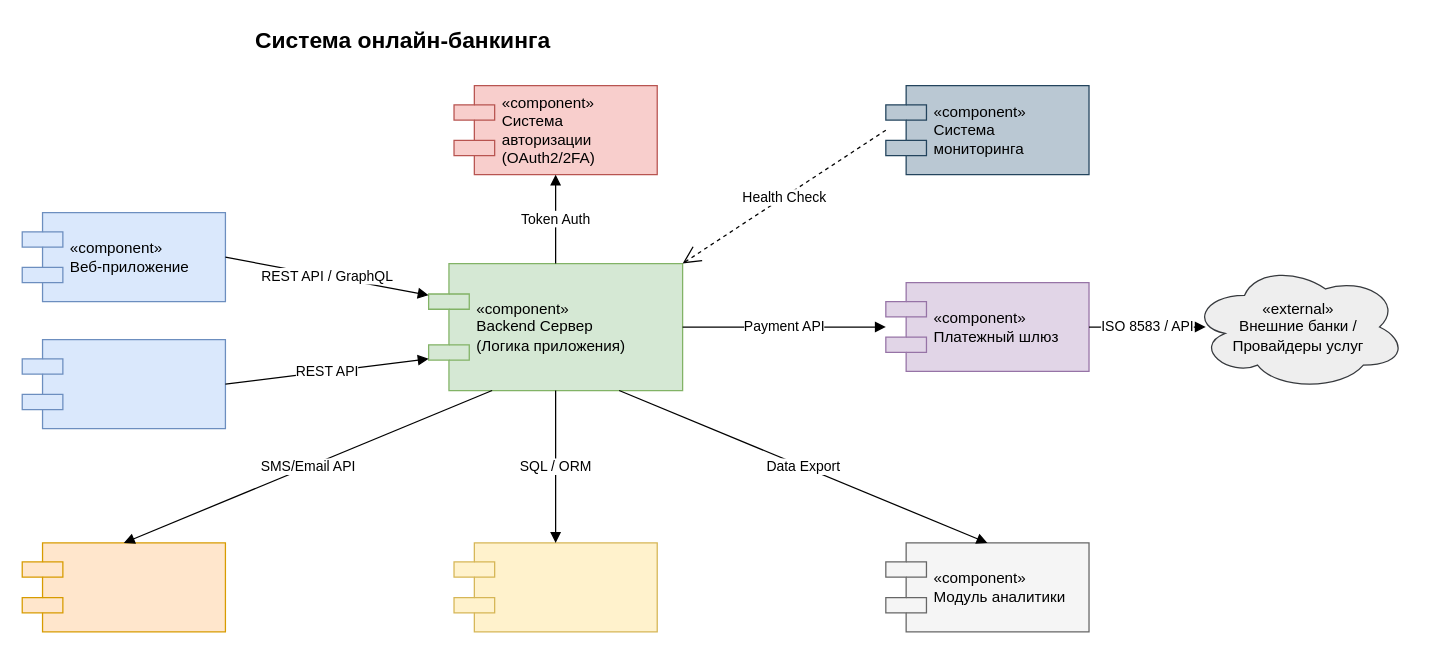
Some shapes in this 1429 by 654 pixel diagram are drawn without their labels. The shapes that lost their labels are listed below. From the top down, each one's centre as x and y in pixels, then its label:
point 123,383: «component» Мобильное приложение
point 123,587: «component» Система уведомлений
point 555,587: «component» База данных (SQL/NoSQL)
